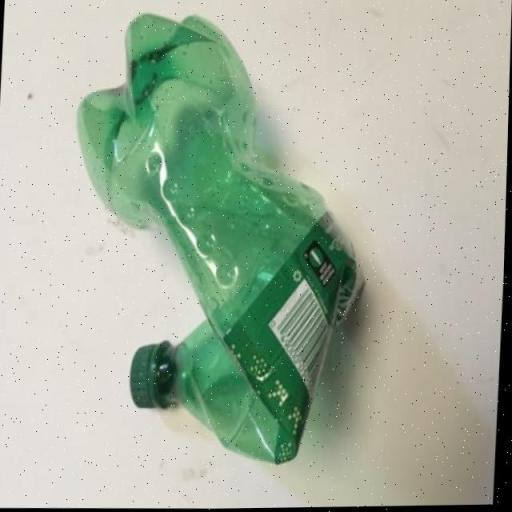plastic: (66, 8, 378, 468)
